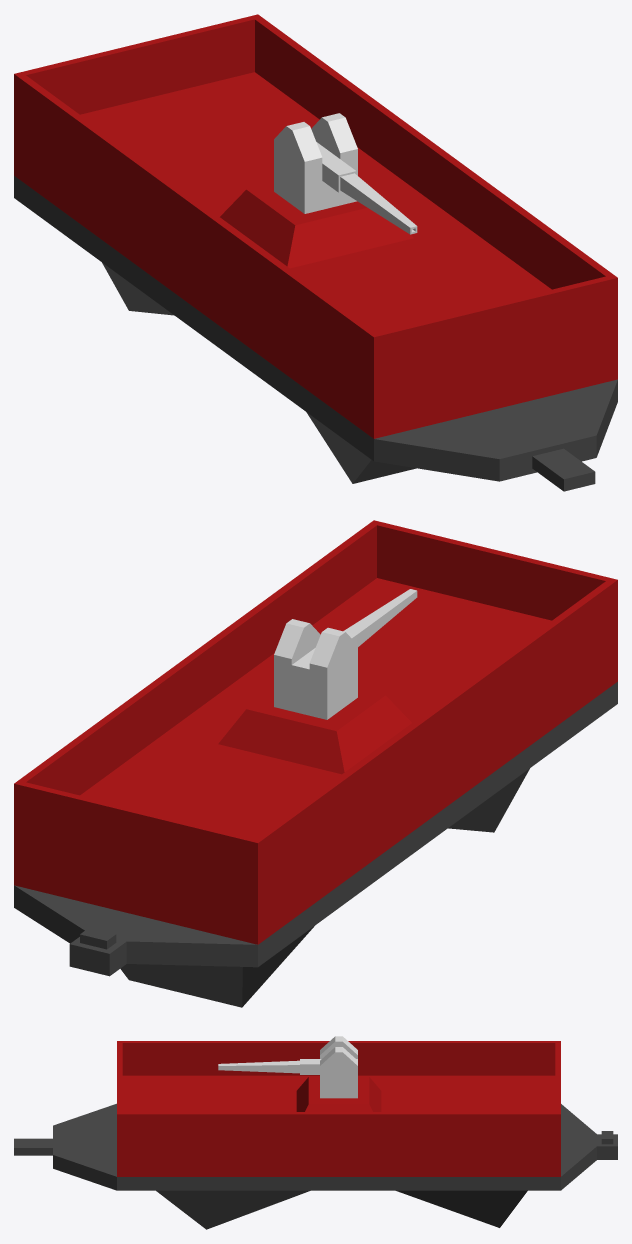
Rendered from Wagon_Slot.fbx.
The picture shows the model from 3 angles, top to bottom: view 1: azimuth 30°, elevation 25°; view 2: azimuth 150°, elevation 25°; view 3: azimuth 270°, elevation 25°; orthographic projection. The views are drawn at different scales.
Visible parts, largest first — view 1: Wagon_Slot, Gun; view 2: Wagon_Slot, Gun; view 3: Wagon_Slot, Gun.
Boxes of the visible parts, bbox=[...] form: Wagon_Slot: bbox=[14, 14, 617, 491]; Gun: bbox=[274, 113, 417, 234]; Wagon_Slot: bbox=[14, 520, 617, 1007]; Gun: bbox=[274, 589, 417, 719]; Wagon_Slot: bbox=[14, 1041, 617, 1229]; Gun: bbox=[218, 1036, 357, 1098].
Bounding box in the file's own units: 185 × 196 × 642.
